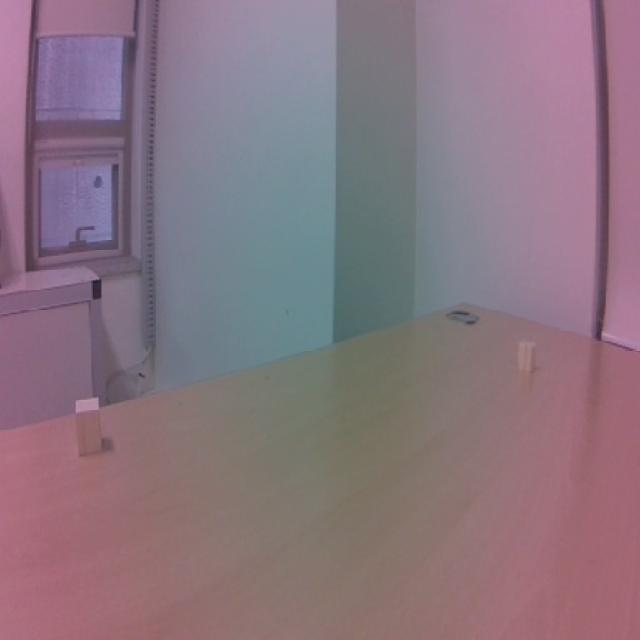obstacle: (66, 389, 110, 463), (508, 335, 546, 382)
